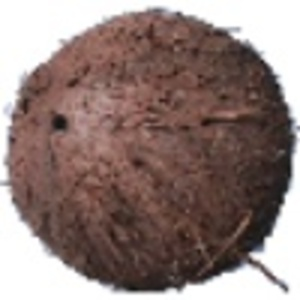coco: (1, 7, 300, 292)
